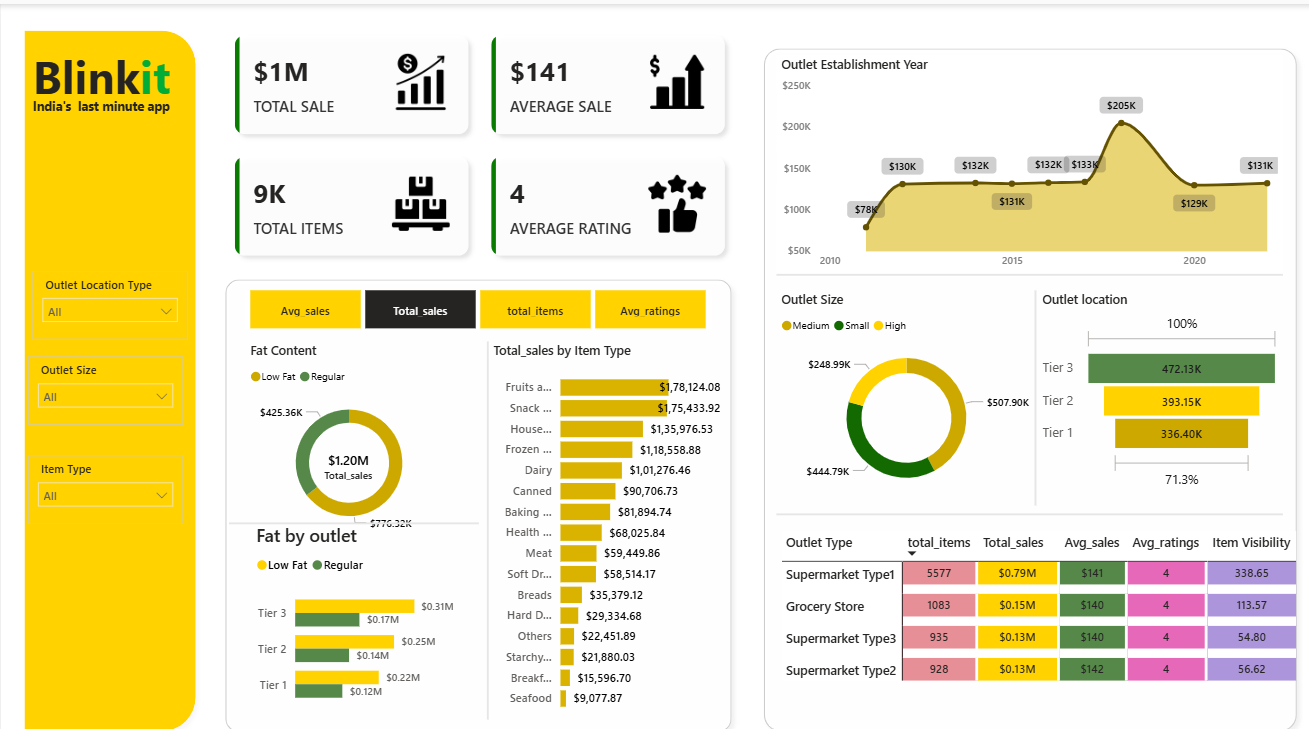

The page's visual inventory and layout, read from the dashboard file:
{"tool":"powerbi","page":{"name":"Page 1","canvas":[1400,800],"ordinal":0},"visuals":[{"type":"shape","box":[15.9,19.4,199.7,761.7],"z":0},{"type":"textbox","box":[28.3,38.9,164.4,84.8],"z":1000},{"type":"textbox","box":[28.3,93.7,164.4,46],"z":2000},{"type":"cardVisual","fields":{"Data":["BlinkIT Grocery Data.Total_sales","BlinkIT Grocery Data.Avg_sales","BlinkIT Grocery Data.total_items","BlinkIT Grocery Data.Avg_ratings"]},"box":[229.8,19.4,570.9,270.4],"z":3000},{"type":"shape","box":[229.8,282.8,554.9,498.4],"z":4000},{"type":"donutChart","title":"Fat Content","fields":{"Y":["BlinkIT Grocery Data.Avg_ratings"],"Category":["BlinkIT Grocery Data.Item Fat Content"]},"box":[259.8,358.8,219.2,212.1],"z":5000},{"type":"advancedSlicerVisual","fields":{"Values":["Metrics.Metrics"]},"box":[259.8,304,494.9,40.6],"z":6000},{"type":"cardVisual","fields":{"Data":["BlinkIT Grocery Data.Avg_ratings"]},"box":[304,448.9,129,83.1],"z":7000},{"type":"clusteredBarChart","title":"Fat by outlet","fields":{"Y":["BlinkIT Grocery Data.Avg_ratings"],"Category":["BlinkIT Grocery Data.Outlet Location Type"],"Series":["BlinkIT Grocery Data.Item Fat Content"]},"box":[265.1,551.4,219.2,206.8],"z":8000},{"type":"shape","box":[242.1,532,265.1,38.9],"z":9000},{"type":"shape","box":[484.3,358.8,65.4,401.2],"z":10000},{"type":"clusteredBarChart","fields":{"Y":["BlinkIT Grocery Data.Avg_ratings"],"Category":["BlinkIT Grocery Data.Item Type"]},"box":[517.8,358.8,251,401.2],"z":11000},{"type":"shape","box":[800.6,38.9,583.2,742.3],"z":12000},{"type":"lineChart","title":" Outlet Establishment Year","fields":{"Category":["BlinkIT Grocery Data.Outlet Establishment Year"],"Y":["BlinkIT Grocery Data.Total_sales"]},"box":[823.6,54.8,537.3,235.1],"z":13000},{"type":"shape","box":[823.6,270.4,537.3,33.6],"z":14000},{"type":"donutChart","title":"Outlet Size","fields":{"Y":["BlinkIT Grocery Data.Total_sales"],"Category":["BlinkIT Grocery Data.Outlet Size"]},"box":[823.6,304,275,225],"z":15000},{"type":"shape","box":[1079.8,304,37.1,228],"z":16000},{"type":"funnel","title":"Outlet location","fields":{"Y":["Sum(BlinkIT Grocery Data.Sales)"],"Category":["BlinkIT Grocery Data.Outlet Location Type"]},"box":[1099.3,304,261.6,215.6],"z":17000},{"type":"shape","box":[823.6,521.4,537.3,38.9],"z":18000},{"type":"pivotTable","fields":{"Rows":["BlinkIT Grocery Data.Outlet Type"],"Values":["BlinkIT Grocery Data.total_items","BlinkIT Grocery Data.Total_sales","BlinkIT Grocery Data.Avg_sales","BlinkIT Grocery Data.Avg_ratings","Sum(BlinkIT Grocery Data.Item Visibility)"]},"box":[823.6,553.2,560.2,206.8],"z":19000},{"type":"slicer","fields":{"Values":["BlinkIT Grocery Data.Outlet Location Type"]},"box":[33.6,282.8,164.4,72.5],"z":20000},{"type":"slicer","fields":{"Values":["BlinkIT Grocery Data.Outlet Size"]},"box":[28.3,374.7,164.4,72.5],"z":21000},{"type":"slicer","fields":{"Values":["BlinkIT Grocery Data.Item Type"]},"box":[28.3,479,164.4,72.5],"z":22000}]}

Visuals, with their boxes in screenshot pixels (x1, y1, x2, y2), scaled from the page's 1400x800 canvas onto the 1309x729 screenshot:
shape: 15 18 202 712
textbox: 26 35 180 113
textbox: 26 85 180 127
cardVisual - BlinkIT Grocery Data.Total_sales x BlinkIT Grocery Data.Avg_sales: 215 18 749 264
shape: 215 258 734 712
"Fat Content" donutChart: 243 327 448 520
advancedSlicerVisual - Metrics.Metrics: 243 277 706 314
cardVisual - BlinkIT Grocery Data.Avg_ratings: 284 409 405 485
"Fat by outlet" clusteredBarChart: 248 502 453 691
shape: 226 485 474 520
shape: 453 327 514 693
clusteredBarChart - BlinkIT Grocery Data.Avg_ratings x BlinkIT Grocery Data.Item Type: 484 327 719 693
shape: 749 35 1294 712
" Outlet Establishment Year" lineChart: 770 50 1272 264
shape: 770 246 1272 277
"Outlet Size" donutChart: 770 277 1027 482
shape: 1010 277 1044 485
"Outlet location" funnel: 1028 277 1272 473
shape: 770 475 1272 511
pivotTable - BlinkIT Grocery Data.Outlet Type x BlinkIT Grocery Data.total_items: 770 504 1294 693
slicer - BlinkIT Grocery Data.Outlet Location Type: 31 258 185 324
slicer - BlinkIT Grocery Data.Outlet Size: 26 341 180 408
slicer - BlinkIT Grocery Data.Item Type: 26 436 180 503
